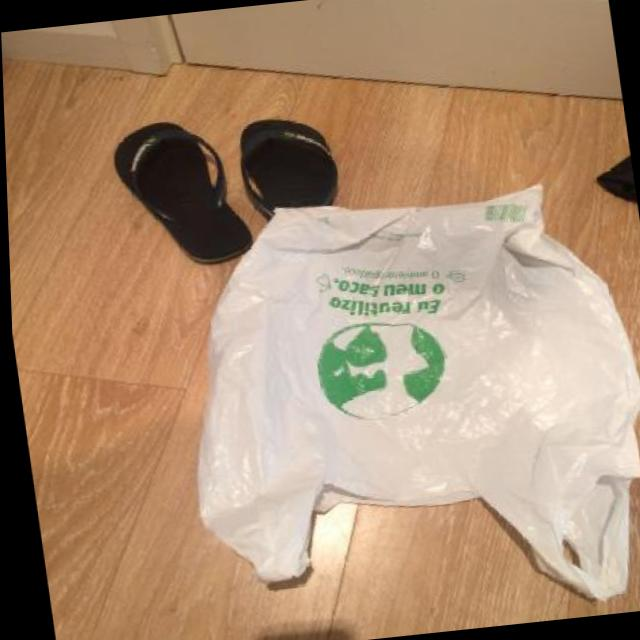plastic: (155, 171, 640, 640)
